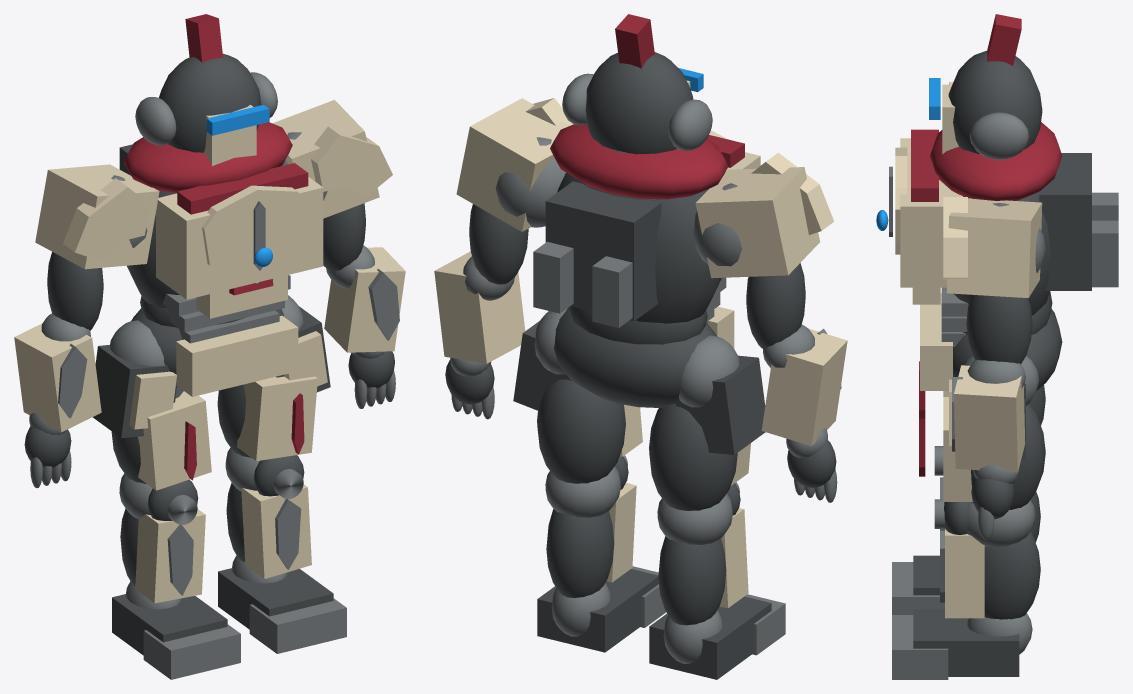
Rendered from blender-mcp.glb.
3 views of the same model, side by side, from view 1: azimuth 30°, elevation 25°; view 2: azimuth 150°, elevation 25°; view 3: azimuth 270°, elevation 25° (orthographic). The views are drawn at different scales.
Parts seen in each view (by area): view 1: Chest | angular shield, Chest | breastplate, Pelvis | front fauld, Shoulder pauldron L, Helmet, Collar core, Forearm armor L, Thigh armor R, Thigh armor L, Forearm armor R, Shoulder | outer wing L, Shin armor L (+49 smaller); view 2: Backpack, Shoulder pauldron L, Pelvis | hip block, Helmet, Collar core, Shoulder pauldron R, Thigh chassis R, Forearm armor L, Thigh chassis L, Forearm armor R, Torso | inner chassis, Shin chassis R (+34 smaller); view 3: Shoulder pauldron R, Forearm armor R, Backpack, Collar core, Helmet, Boot upper R, Chest | breastplate, Upper arm R, Shin chassis R, Shin armor R, Boot toe R, Pelvis | front fauld (+30 smaller).
Boxes of the visible parts, bbox=[...] form: Chest | angular shield: bbox=[202, 185, 310, 283]; Chest | breastplate: bbox=[156, 177, 323, 299]; Pelvis | front fauld: bbox=[176, 315, 298, 396]; Shoulder pauldron L: bbox=[35, 164, 159, 269]; Helmet: bbox=[159, 53, 261, 152]; Collar core: bbox=[124, 122, 292, 192]; Forearm armor L: bbox=[14, 323, 101, 432]; Thigh armor R: bbox=[237, 376, 317, 461]; Thigh armor L: bbox=[138, 391, 211, 490]; Forearm armor R: bbox=[324, 247, 405, 352]; Shoulder | outer wing L: bbox=[63, 178, 150, 260]; Shin armor L: bbox=[135, 509, 205, 603]; Backpack: bbox=[545, 181, 661, 321]; Shoulder pauldron L: bbox=[695, 167, 819, 278]; Pelvis | hip block: bbox=[554, 308, 716, 407]; Helmet: bbox=[585, 52, 693, 154]; Collar core: bbox=[550, 124, 728, 199]; Shoulder pauldron R: bbox=[456, 98, 569, 231]; Thigh chassis R: bbox=[537, 379, 625, 483]; Forearm armor L: bbox=[761, 328, 847, 446]; Thigh chassis L: bbox=[649, 404, 737, 510]; Forearm armor R: bbox=[434, 251, 525, 363]; Torso | inner chassis: bbox=[557, 172, 721, 323]; Shin chassis R: bbox=[546, 509, 614, 597]; Shoulder pauldron R: bbox=[946, 198, 1042, 297]; Forearm armor R: bbox=[954, 365, 1025, 472]; Backpack: bbox=[1039, 153, 1091, 290]; Collar core: bbox=[930, 122, 1062, 200]; Helmet: bbox=[948, 50, 1042, 153]; Boot upper R: bbox=[913, 609, 1019, 676]; Chest | breastplate: bbox=[900, 138, 962, 287]; Upper arm R: bbox=[966, 295, 1032, 364]; Shin chassis R: bbox=[984, 531, 1040, 619]; Shin armor R: bbox=[945, 529, 984, 618]; Boot toe R: bbox=[892, 615, 948, 679]; Pelvis | front fauld: bbox=[920, 293, 952, 390].
Size of the model in its own units: 1.32 by 2.06 by 0.732.
